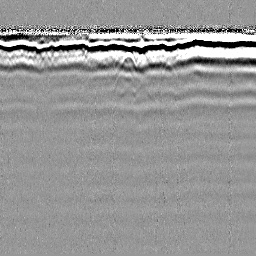cavity: (117, 51, 139, 75)
